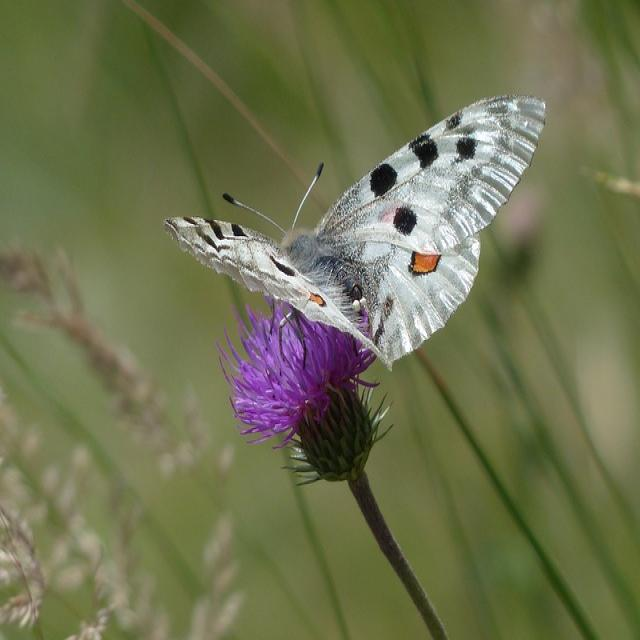butterfly: (166, 97, 545, 366)
